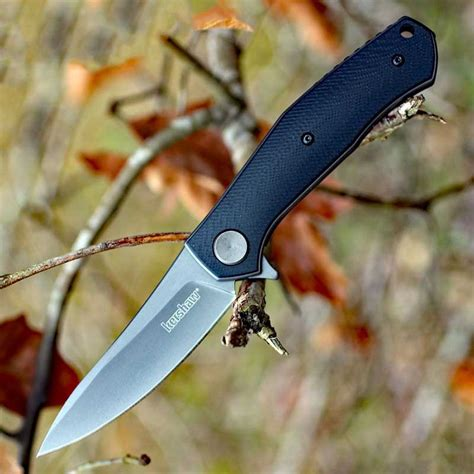knife: (34, 13, 440, 459)
